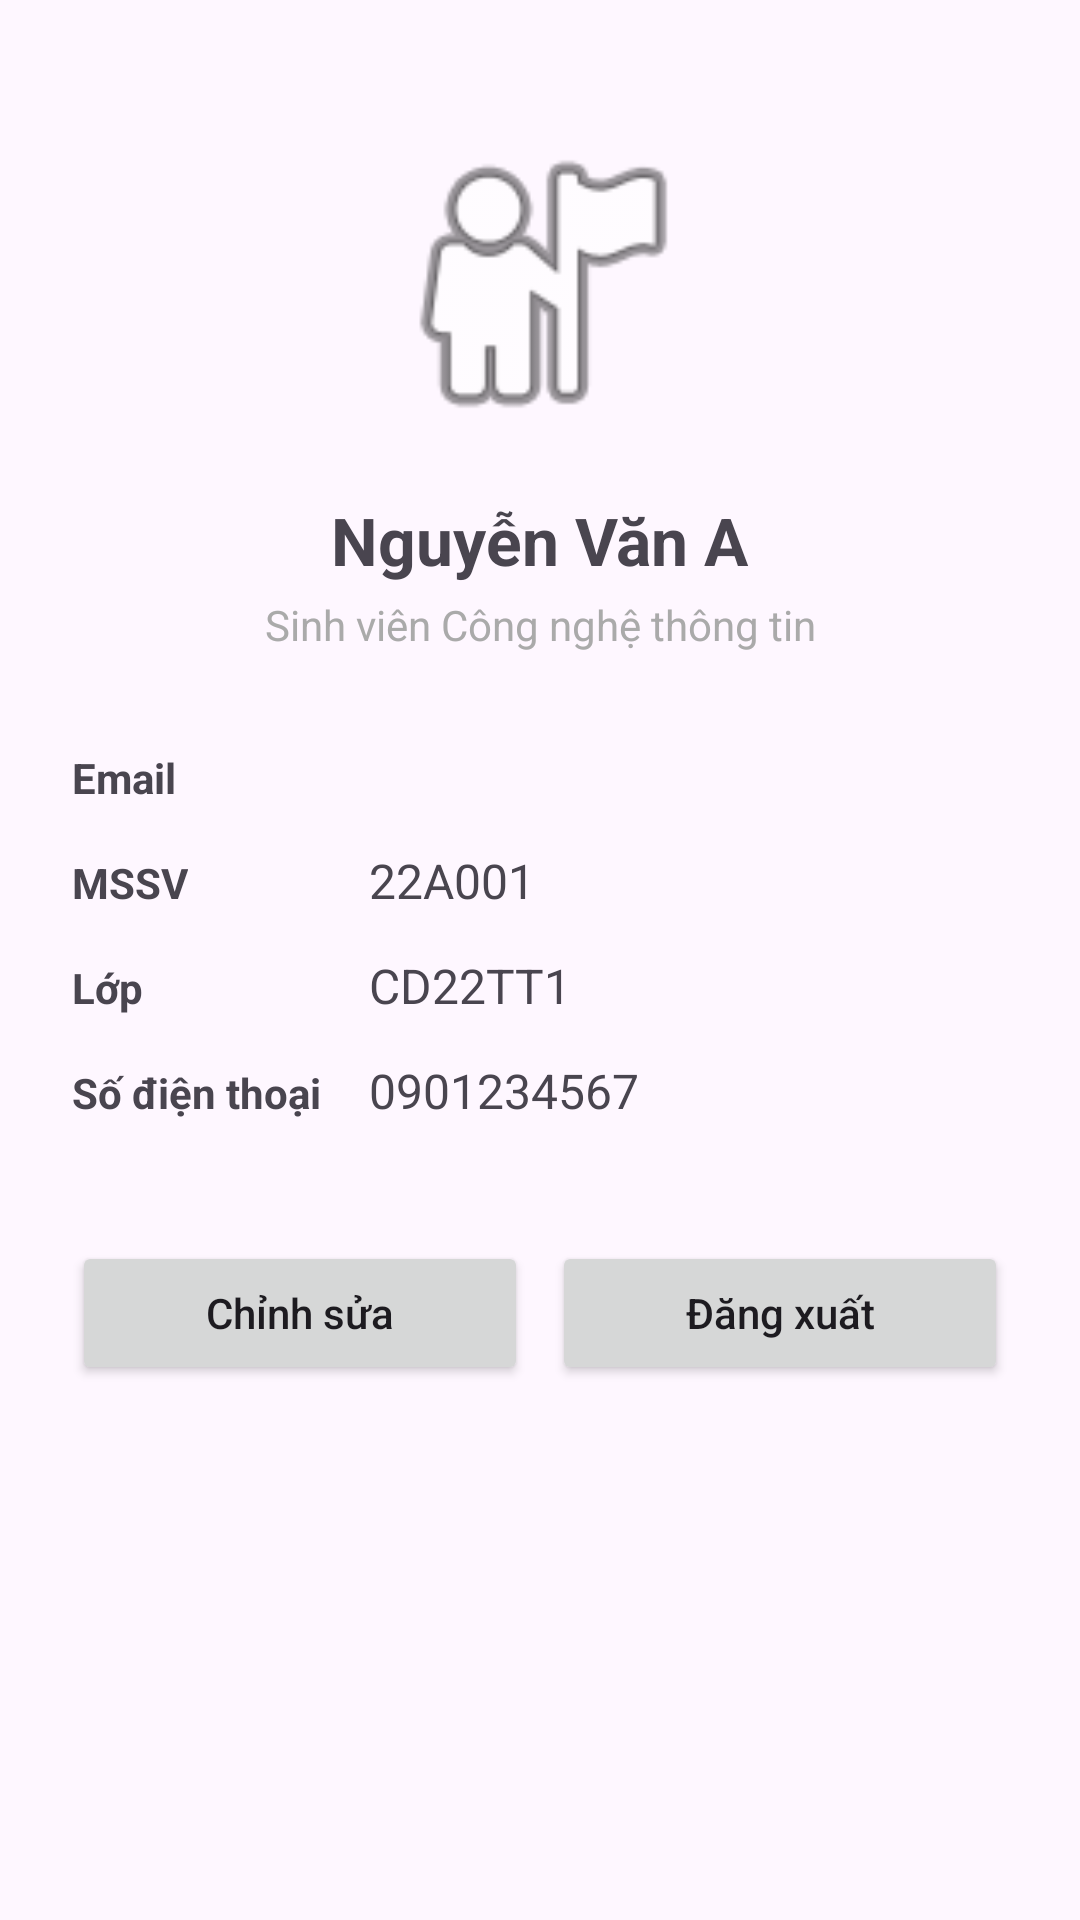

Screen size 1080px×1920px. Icon name, then its box in pixels as (x1=x1, y1=y1, x2=x2, y2=y2):
Ảnh đại diện: (x1=420, y1=161, x2=667, y2=407)
